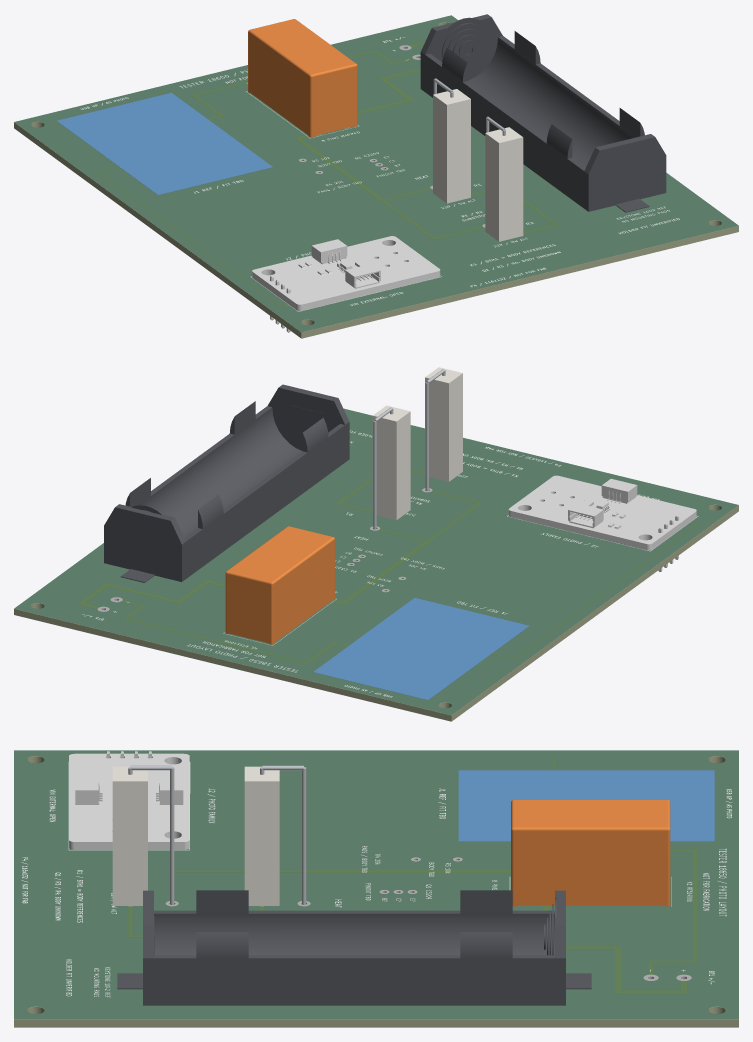
File: tester18650_pcb_3d.glb
3 renders of one model, top to bottom at view 1: azimuth 30°, elevation 25°; view 2: azimuth 150°, elevation 25°; view 3: azimuth 270°, elevation 25°, orthographic. The views are drawn at different scales.
Visible parts, largest first — view 1: =>[0:1:1:44], =>[0:1:1:46], =>[0:1:1:40], =>[0:1:1:35], =>[0:1:1:37], =>[0:1:1:3], =>[0:1:1:29] (×2), =>[0:1:1:43], =>[0:1:1:41]; view 2: =>[0:1:1:44], =>[0:1:1:46], =>[0:1:1:40], =>[0:1:1:35], =>[0:1:1:37], =>[0:1:1:3], =>[0:1:1:29] (×2), =>[0:1:1:43], =>[0:1:1:41]; view 3: =>[0:1:1:44], =>[0:1:1:46], =>[0:1:1:40], =>[0:1:1:37], =>[0:1:1:35], =>[0:1:1:29] (×2), =>[0:1:1:3], =>[0:1:1:43], =>[0:1:1:41], =>[0:1:1:33] (×2), =>[0:1:1:45], =>[0:1:1:42].
Part boxes in pixels (x1,y1,x2,y2): =>[0:1:1:44]: [14, 15, 738, 332]; =>[0:1:1:46]: [14, 16, 738, 338]; =>[0:1:1:40]: [420, 14, 666, 212]; =>[0:1:1:35]: [57, 92, 272, 194]; =>[0:1:1:37]: [248, 19, 357, 137]; =>[0:1:1:3]: [252, 236, 440, 332]; =>[0:1:1:29] (×2): [433, 89, 523, 241]; =>[0:1:1:43]: [80, 37, 679, 311]; =>[0:1:1:41]: [99, 42, 557, 307]; =>[0:1:1:44]: [14, 408, 738, 715]; =>[0:1:1:46]: [14, 409, 738, 721]; =>[0:1:1:40]: [104, 384, 349, 582]; =>[0:1:1:35]: [313, 598, 529, 699]; =>[0:1:1:37]: [225, 526, 334, 644]; =>[0:1:1:3]: [508, 475, 696, 571]; =>[0:1:1:29] (×2): [372, 367, 462, 520]; =>[0:1:1:43]: [82, 430, 698, 697]; =>[0:1:1:41]: [79, 470, 696, 663]; =>[0:1:1:44]: [14, 750, 738, 1019]; =>[0:1:1:46]: [14, 751, 738, 1027]; =>[0:1:1:40]: [117, 890, 591, 1005]; =>[0:1:1:37]: [511, 799, 670, 906]; =>[0:1:1:35]: [458, 770, 714, 841]; =>[0:1:1:29] (×2): [112, 766, 279, 905]; =>[0:1:1:3]: [69, 751, 189, 849]; =>[0:1:1:43]: [21, 762, 731, 997]; =>[0:1:1:41]: [129, 757, 696, 992]; =>[0:1:1:33] (×2): [170, 767, 306, 904]; =>[0:1:1:45]: [14, 1027, 738, 1027]; =>[0:1:1:42]: [128, 857, 691, 980].
Bounding box in the file's own units: 0.116 × 0.036 × 0.132.
